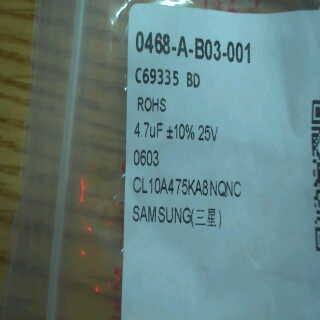4.7uF: (128, 117, 167, 146)
